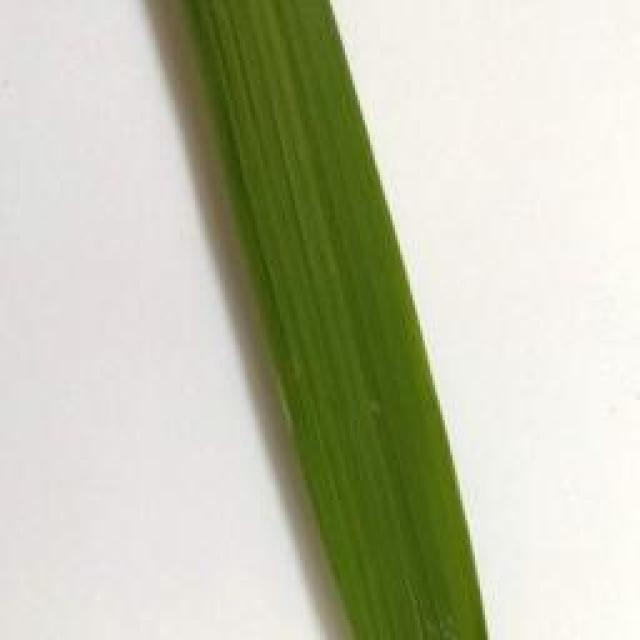Healthy-Plant: (180, 0, 492, 640)
